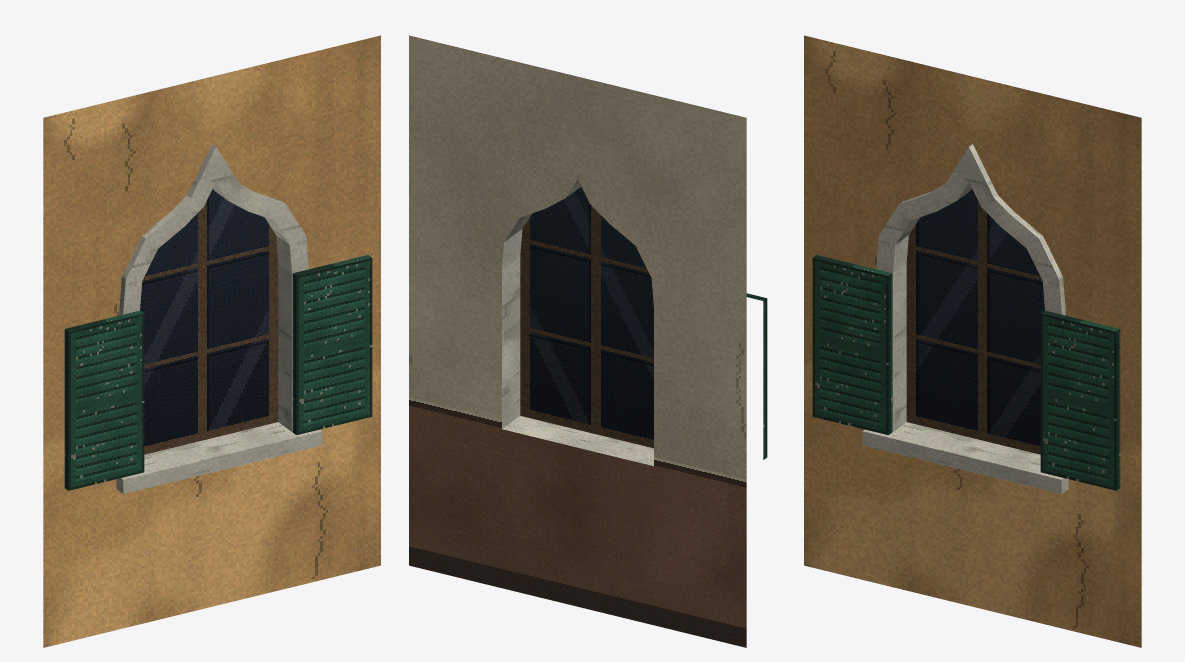
File: ext_window_gothic.gltf
3 views of the same model, side by side, from view 1: azimuth 30°, elevation 25°; view 2: azimuth 150°, elevation 25°; view 3: azimuth 330°, elevation 25° (orthographic).
Visible parts, largest first — view 1: ext_window_gothic; view 2: ext_window_gothic; view 3: ext_window_gothic.
Boxes of the visible parts, x1,y1,x2,y2 form: ext_window_gothic: (43, 35, 380, 647); ext_window_gothic: (409, 35, 767, 647); ext_window_gothic: (804, 35, 1141, 647).
Size of what is drawn, in the model's own units: 2 by 3 by 0.41.
5 materials, 5 textured.
